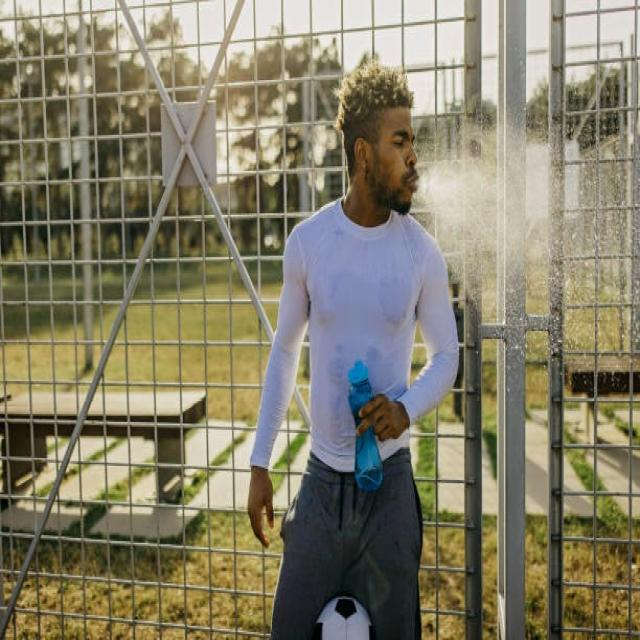Spitting: (332, 63, 465, 323)
